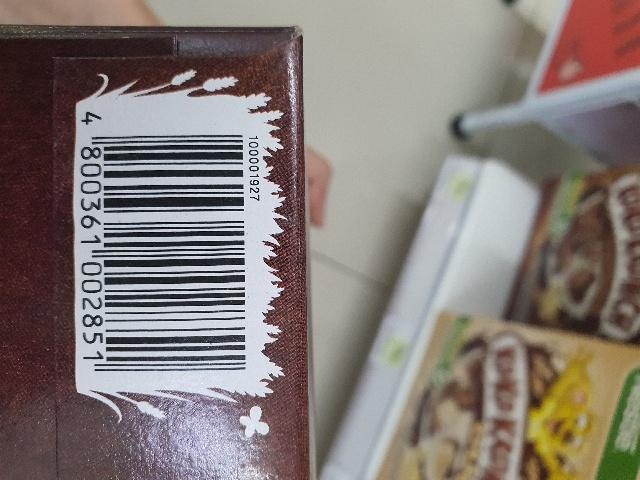Barcode: (75, 106, 250, 378)
